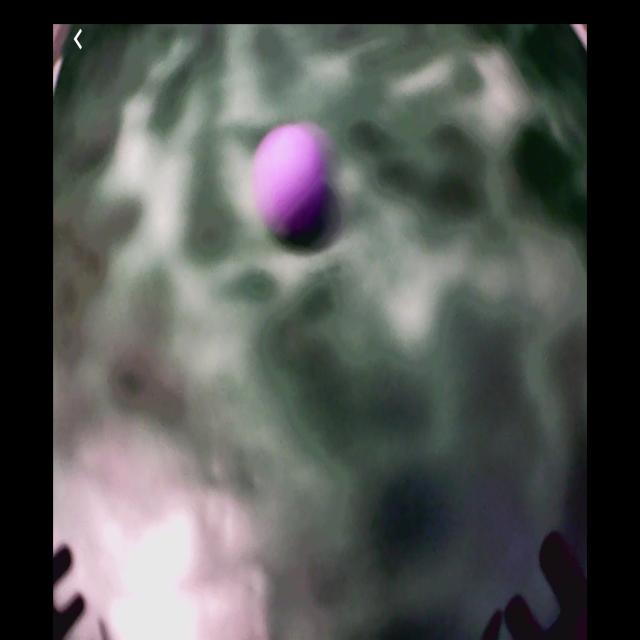ball: (259, 124, 324, 242)
